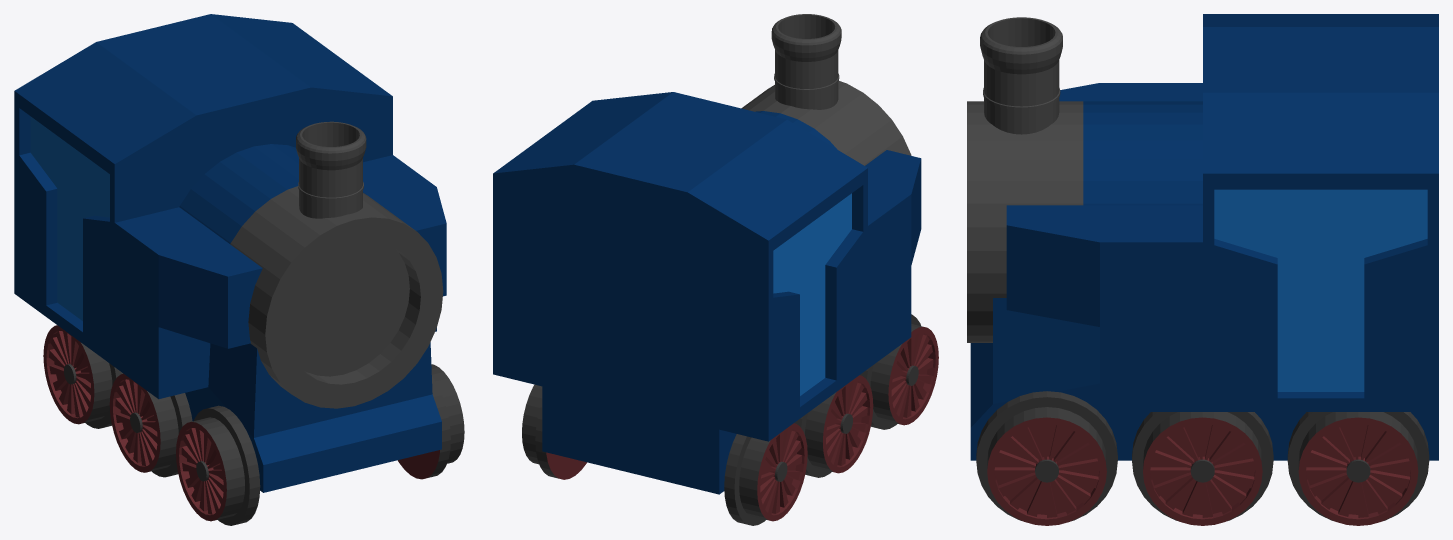
The model's file is train.fbx.
The picture shows the model from 3 angles, left to right: view 1: azimuth 30°, elevation 25°; view 2: azimuth 150°, elevation 25°; view 3: azimuth 270°, elevation 25°; orthographic projection. The views are drawn at different scales.
Visible parts, largest first — view 1: Cube, Cylinder, Cylinder.001, Cylinder.002; view 2: Cube, Cylinder.001, Cylinder.002, Cylinder; view 3: Cube, Cylinder.001, Cylinder, Cylinder.002.
Part boxes in pixels (left/top/right/bottom): Cube: left=14, top=14, right=446, bottom=492; Cylinder: left=179, top=144, right=443, bottom=408; Cylinder.001: left=43, top=325, right=464, bottom=525; Cylinder.002: left=296, top=121, right=366, bottom=218; Cube: left=493, top=92, right=921, bottom=494; Cylinder.001: left=522, top=314, right=938, bottom=525; Cylinder.002: left=771, top=14, right=841, bottom=109; Cylinder: left=741, top=81, right=911, bottom=165; Cube: left=970, top=14, right=1438, bottom=460; Cylinder.001: left=976, top=391, right=1429, bottom=525; Cylinder: left=967, top=101, right=1202, bottom=342; Cylinder.002: left=980, top=17, right=1062, bottom=134.
Size of the model in its own units: 160 by 203 by 200.
